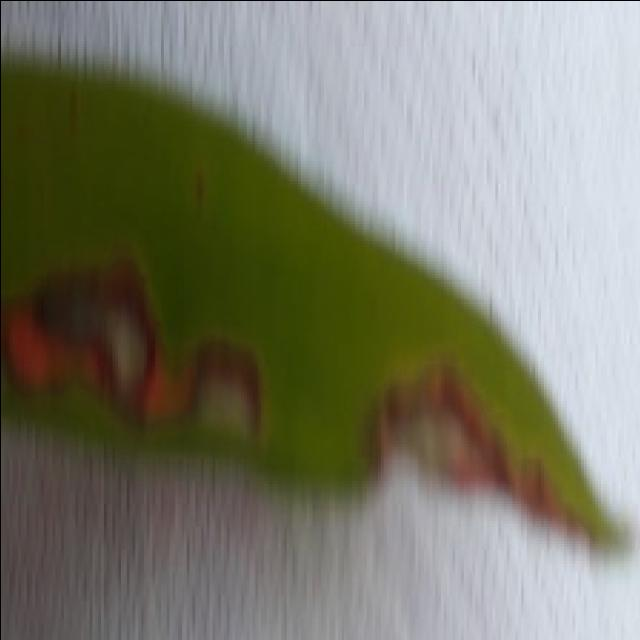Unhealthy: (0, 240, 272, 458), (346, 353, 627, 547)
